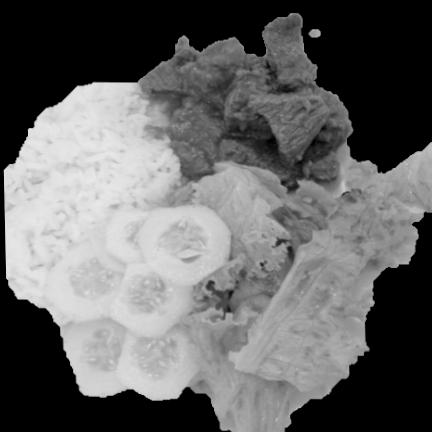cucumber: (48, 204, 232, 399)
meat: (140, 14, 351, 189)
rice: (4, 82, 180, 322)
salad: (170, 144, 432, 432)
